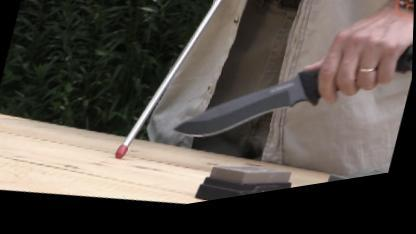knife: (163, 0, 414, 200)
